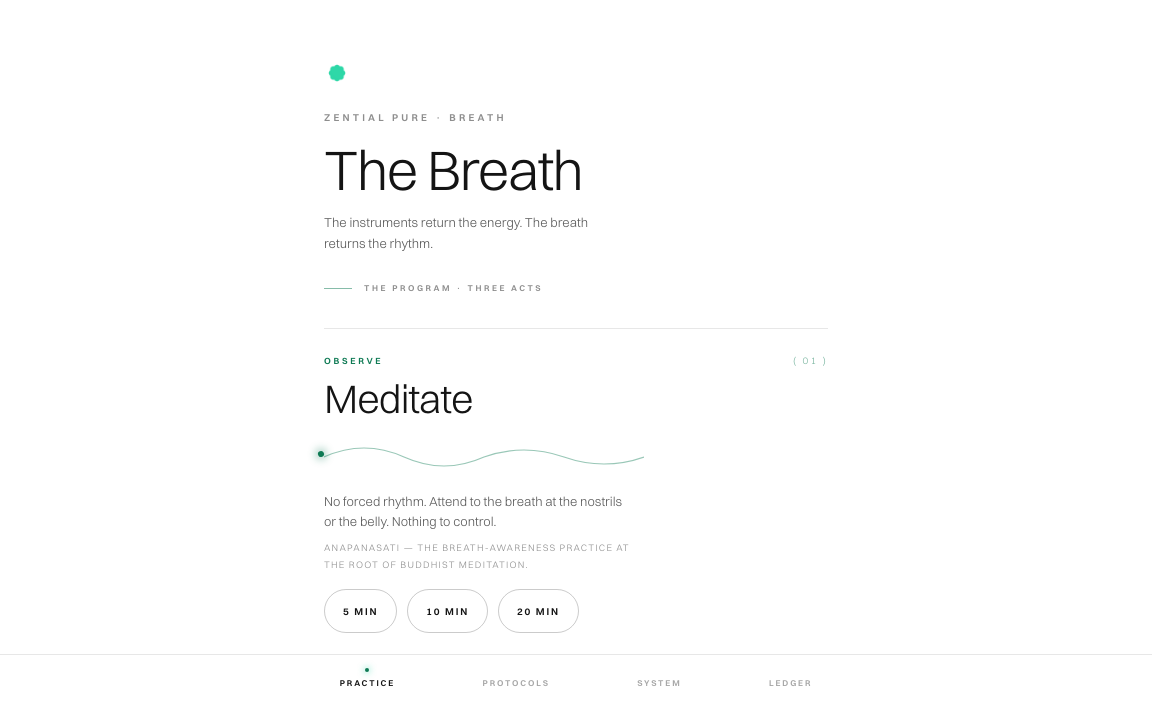
Test: Breath › starting a 5 MIN Meditate shows the session screen with OBSERVE and 5:00
// First "5 MIN" chip is under Meditate (Observe is act 01).
Click the button "5 MIN": [361, 611] box [324,589,397,633]
Wait 700 ms
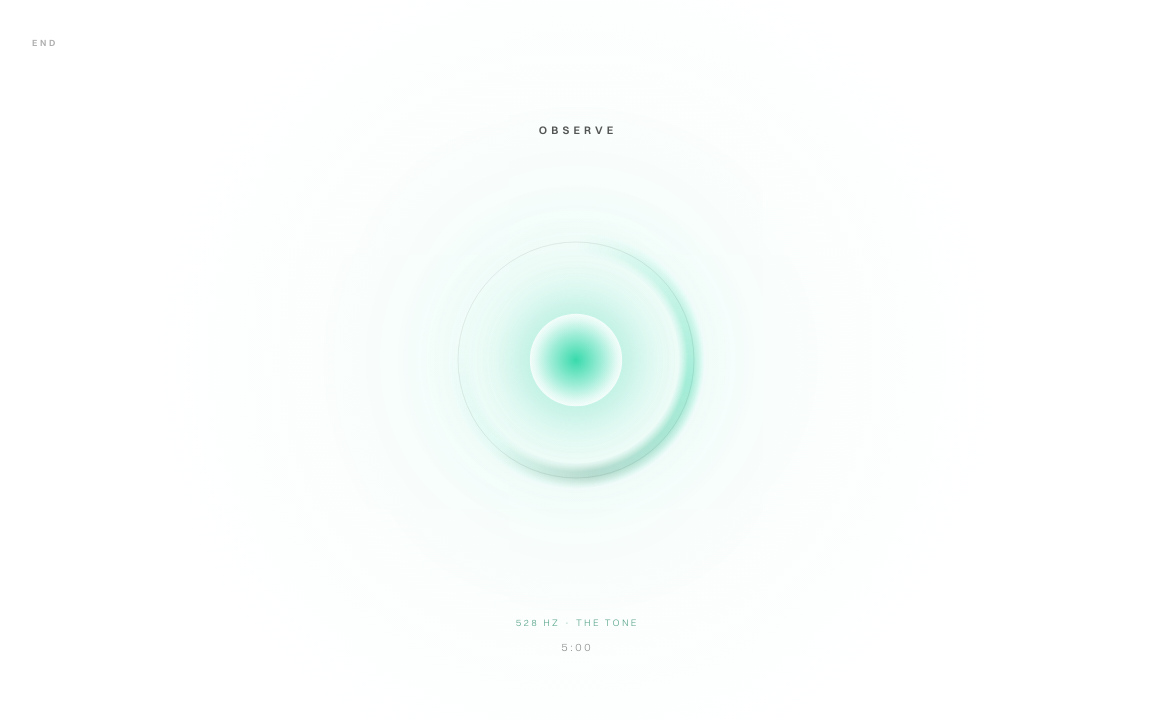
Check: the text "OBSERVE" is shown, box [539,123,618,137]
Check: the text "5:00" is shown, box [561,640,593,654]
